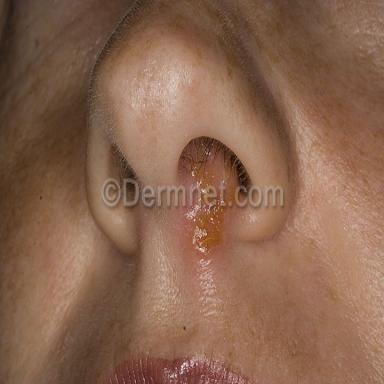Impetigo: (180, 204, 228, 260)
